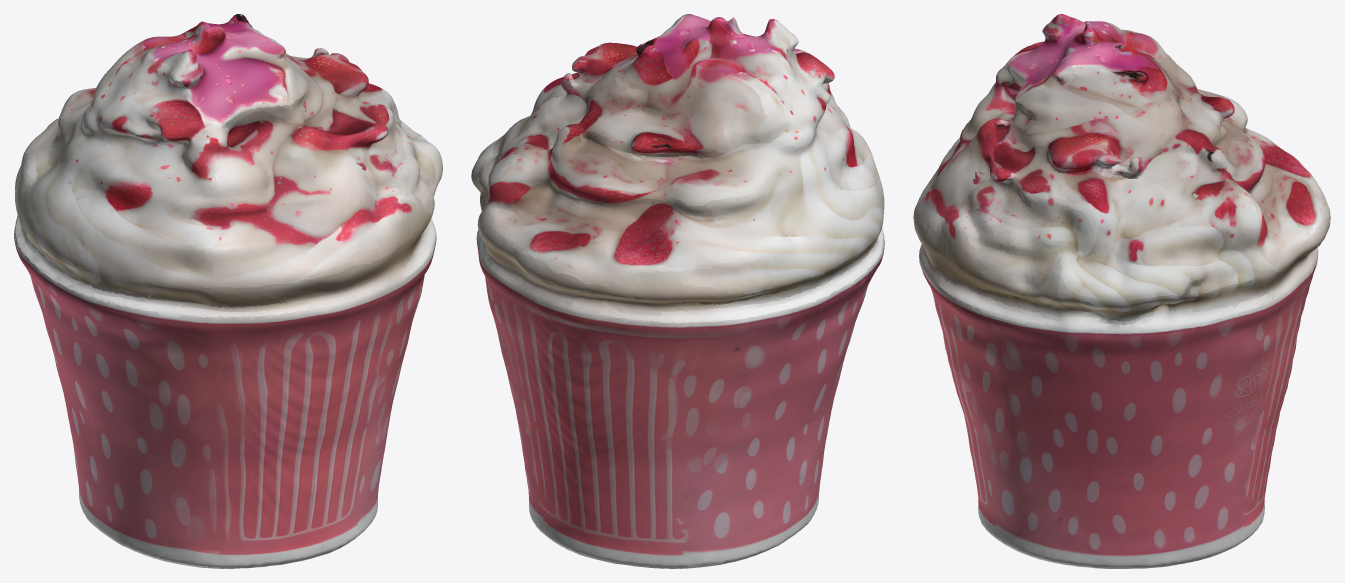
The model's file is strawberry_ice_cream (4).glb.
The picture shows the model from 3 angles, left to right: view 1: azimuth 30°, elevation 25°; view 2: azimuth 150°, elevation 25°; view 3: azimuth 270°, elevation 25°; orthographic projection. The views are drawn at different scales.
Visible parts, largest first — view 1: model_0; view 2: model_0; view 3: model_0.
Part boxes in pixels (x1,y1,x2,y2): model_0: [14, 14, 442, 568]; model_0: [471, 14, 884, 568]; model_0: [913, 14, 1330, 568].
Size of the model in its own units: 0.7904 by 1 by 0.7974.
Materials: 1 (1 with a texture image).
